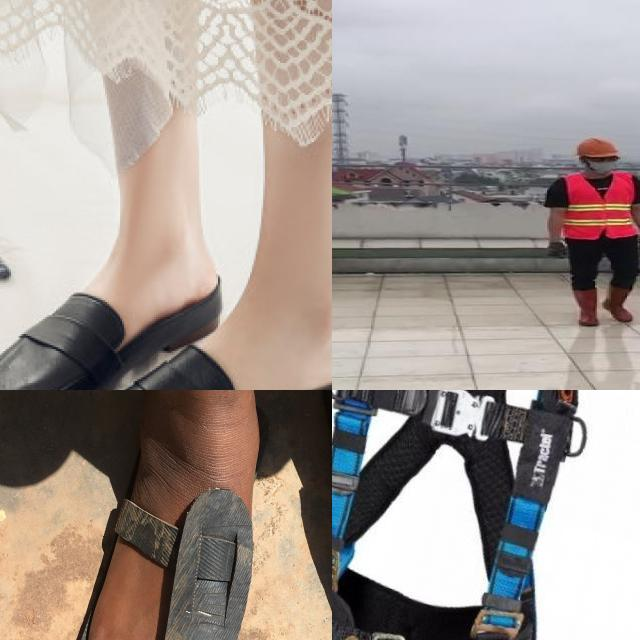Harness: (332, 390, 579, 640)
Sandals: (38, 265, 332, 390)
boots: (600, 284, 636, 325), (572, 290, 600, 328)
head_helmet: (572, 136, 622, 160)
person: (540, 133, 640, 329)
vest: (563, 172, 636, 236)
